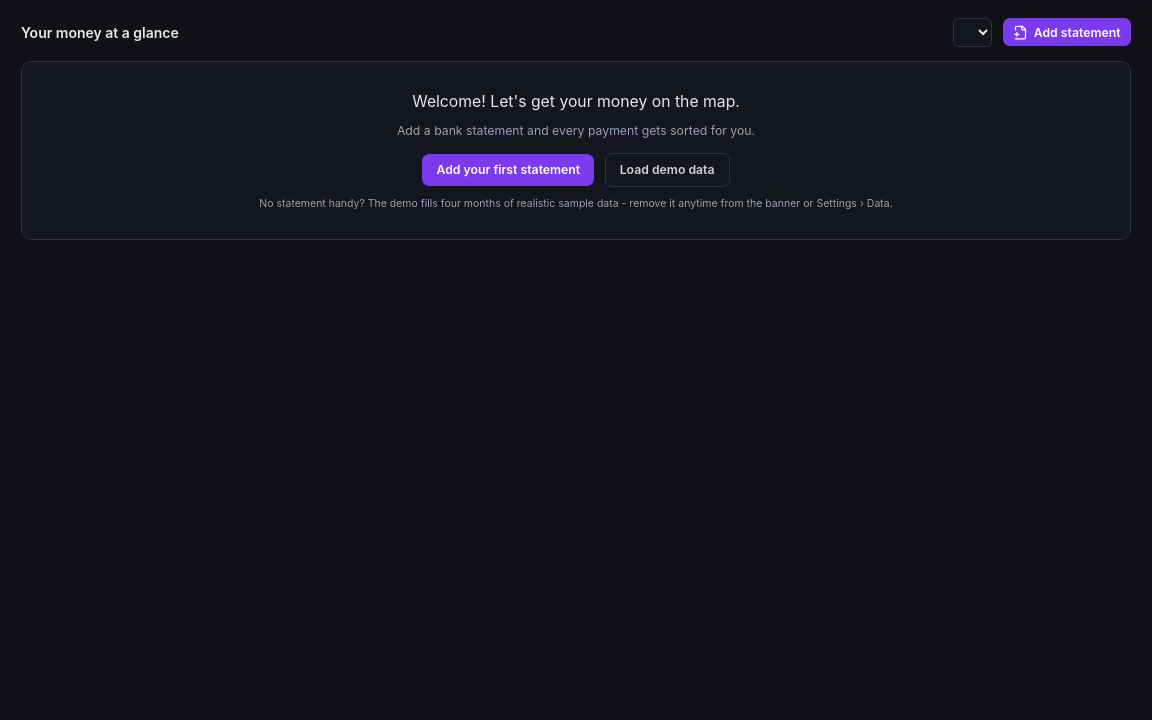
Test: Dashboard › loading the demo refreshes the counts and the accuracy block too
Click the button "Load demo data".
click(667, 170)  # box [605, 153, 730, 186]
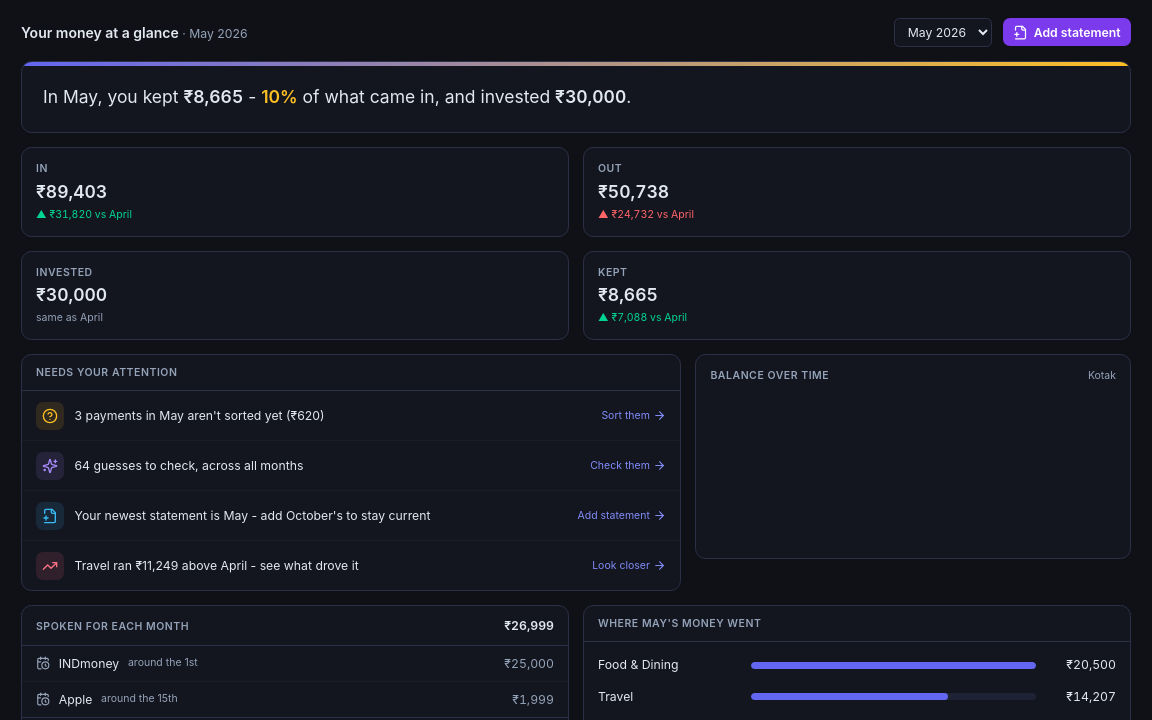
Expected: the link "64 guesses to check, across all months Check them" is shown, [36, 452, 666, 480]
